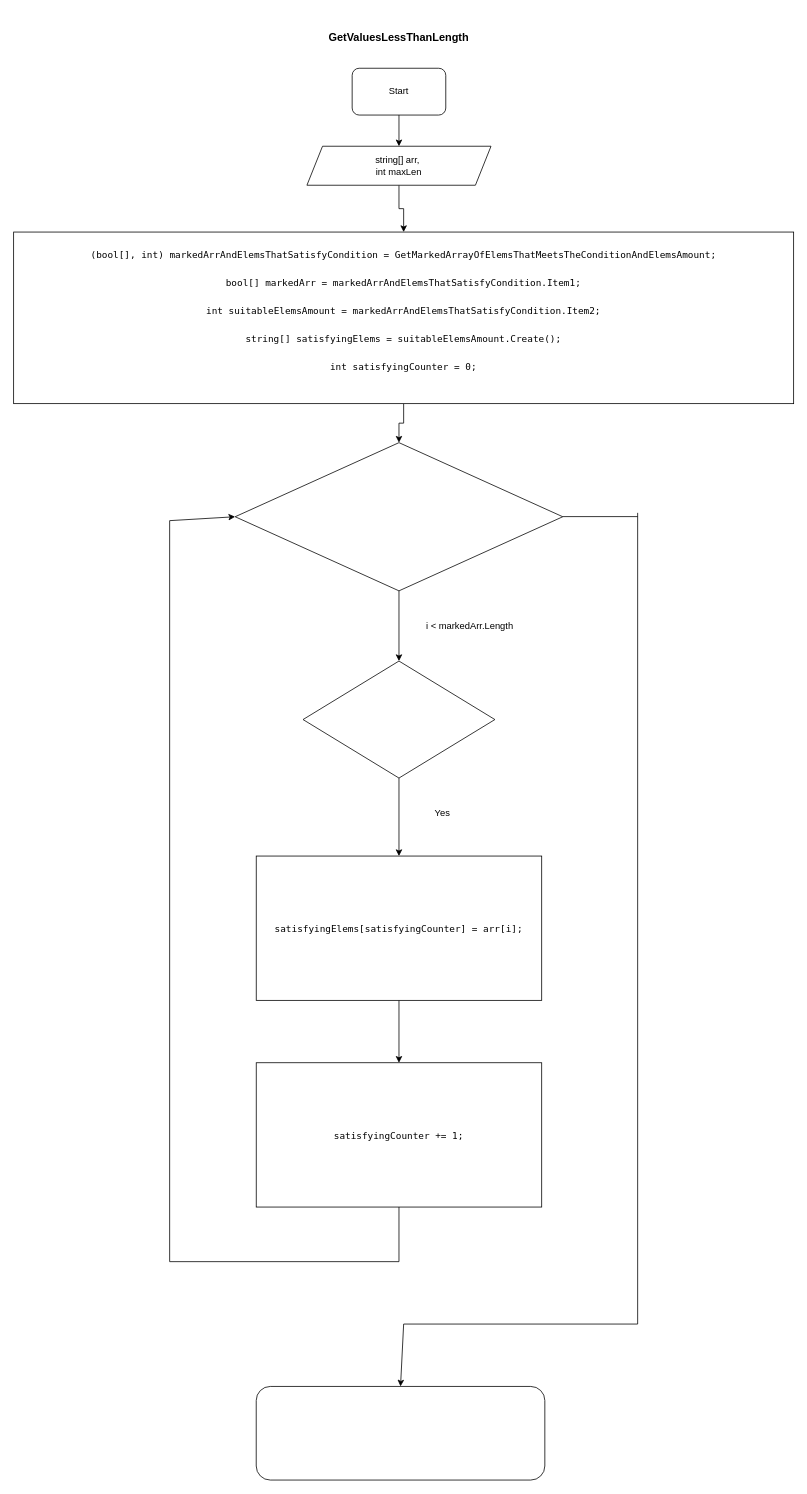
Image size: 807x1494. Some labels were removed from this diagram. The shapes that lost their labels are listed below. From the top down, each one's box as (x1, y1, x2, y2) in pixels, then its label:
(234, 442, 563, 591): i = 0; i < markedArr.Length; i++
(302, 660, 495, 778): markedArr[i] == true ?
(255, 1386, 545, 1480): return satisfyingElems; Finish.
